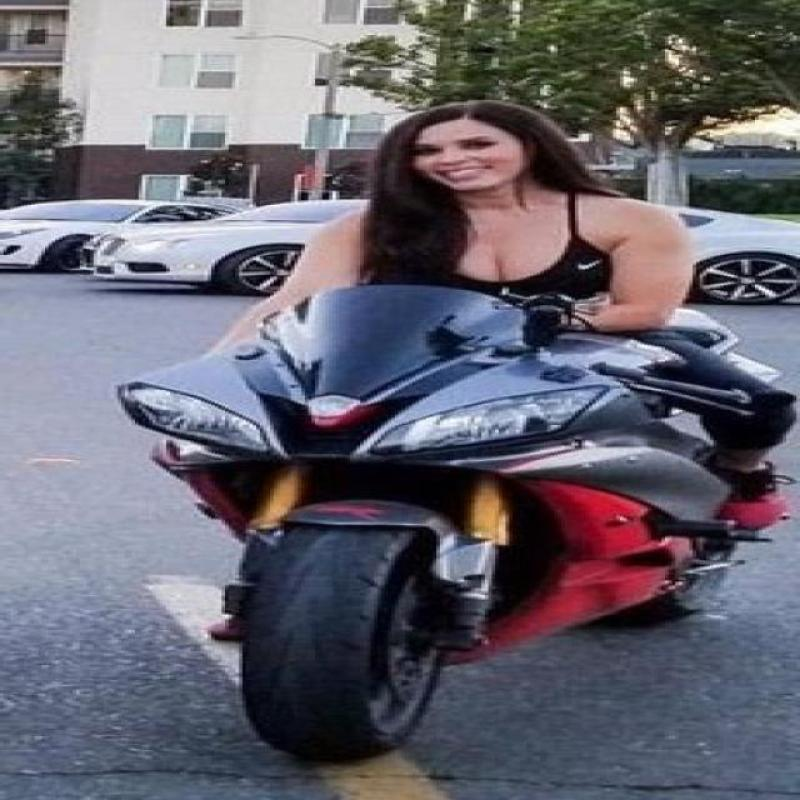nohelmet: (365, 98, 596, 194)
